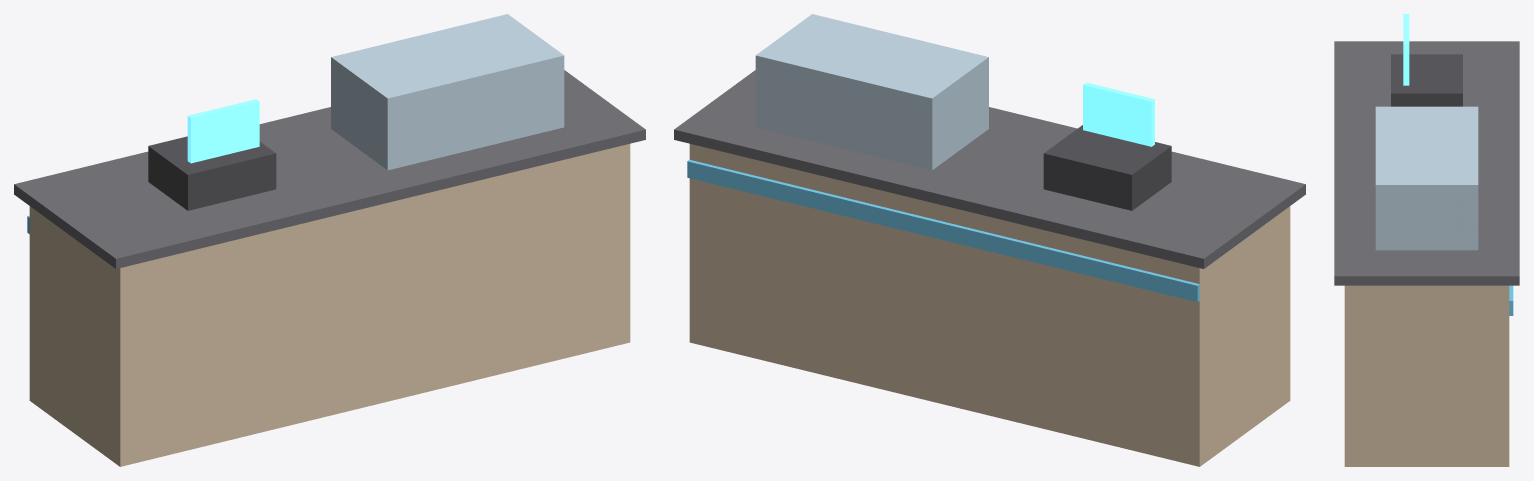
The model's file is ShopCounter.fbx.
3 renders of one model, left to right at view 1: azimuth 30°, elevation 25°; view 2: azimuth 150°, elevation 25°; view 3: azimuth 270°, elevation 25°, orthographic. The views are drawn at different scales.
Visible parts, largest first — view 1: ShopCounter_Mesh; view 2: ShopCounter_Mesh; view 3: ShopCounter_Mesh.
Boxes of the visible parts, bbox=[...] form: ShopCounter_Mesh: bbox=[14, 14, 645, 466]; ShopCounter_Mesh: bbox=[674, 14, 1305, 466]; ShopCounter_Mesh: bbox=[1334, 14, 1519, 466].
Size of the model in its own units: 2.7 by 0.9 by 1.46.
